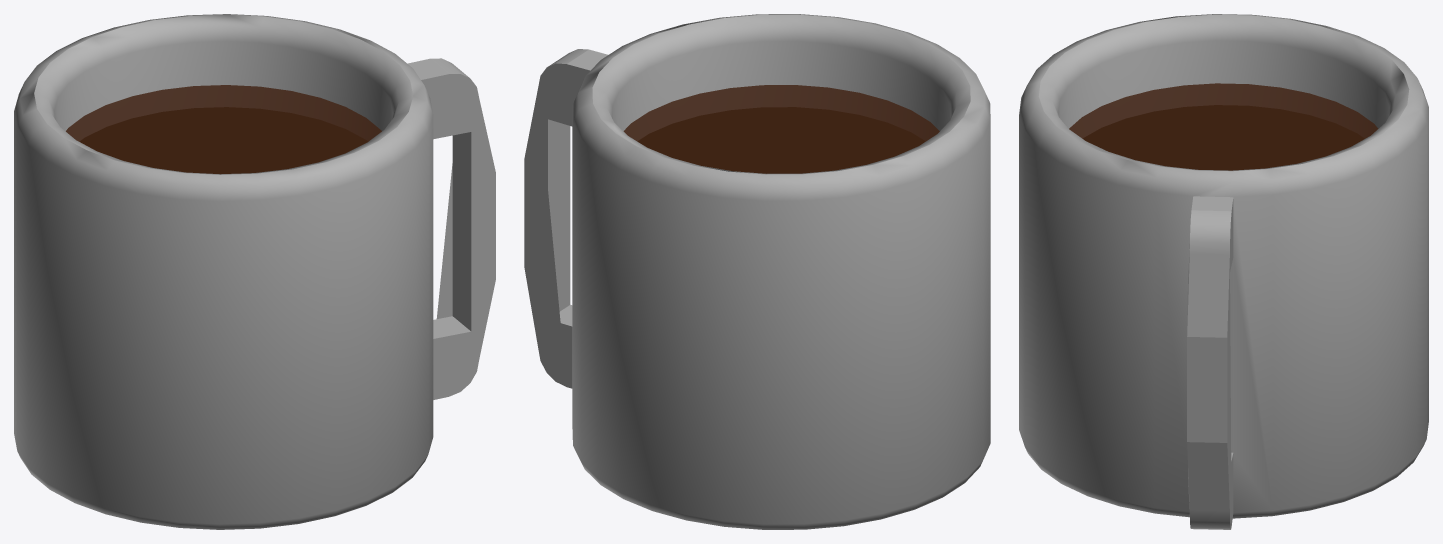
Rendered from Mug Empty.fbx.
The picture shows the model from 3 angles, left to right: view 1: azimuth 30°, elevation 25°; view 2: azimuth 150°, elevation 25°; view 3: azimuth 270°, elevation 25°; orthographic projection. The views are drawn at different scales.
Visible parts, largest first — view 1: Cylinder.003; view 2: Cylinder.003; view 3: Cylinder.003.
Boxes of the visible parts, left/top/right/bottom form: Cylinder.003: left=14, top=14, right=495, bottom=529; Cylinder.003: left=524, top=14, right=990, bottom=529; Cylinder.003: left=1019, top=14, right=1428, bottom=529.
Bounding box in the file's own units: 93.32 × 71.68 × 77.52.
